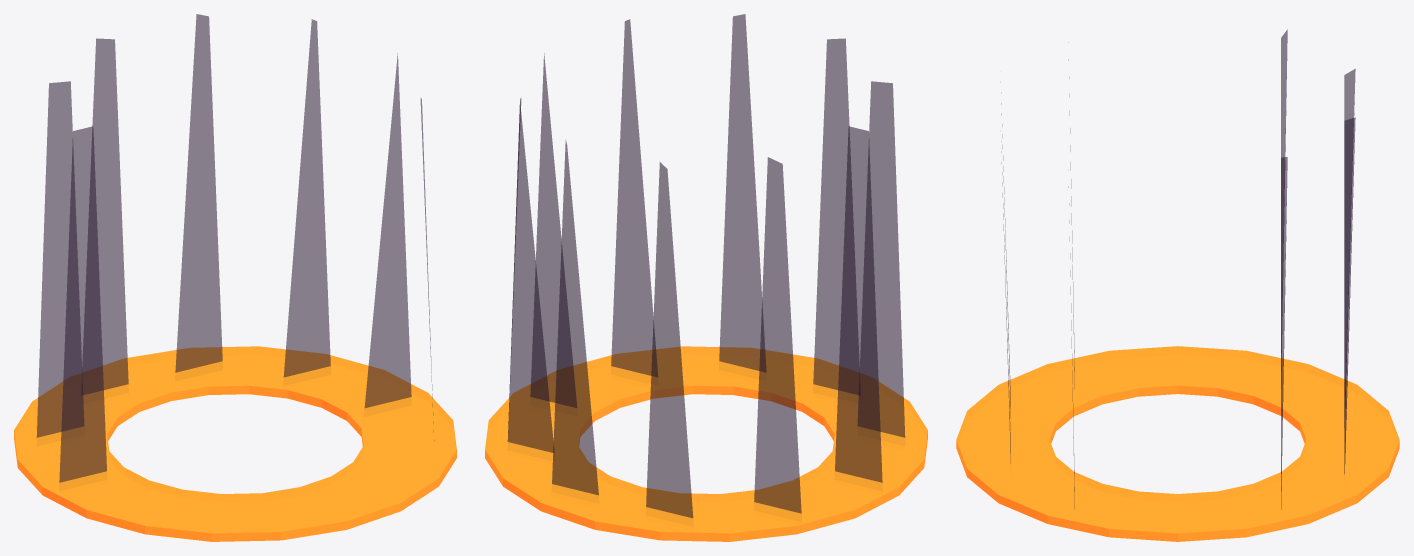
The model's file is cos_shroud.glb.
3 renders of one model, left to right at view 1: azimuth 30°, elevation 25°; view 2: azimuth 150°, elevation 25°; view 3: azimuth 270°, elevation 25°, orthographic.
Parts seen in each view (by area): view 1: cos_shroud_smoke, cos_shroud_ember; view 2: cos_shroud_smoke, cos_shroud_ember; view 3: cos_shroud_ember, cos_shroud_smoke.
Boxes of the visible parts, x1,y1,x2,y2 form: cos_shroud_smoke: (36,14,434,482); cos_shroud_ember: (14,346,456,541); cos_shroud_smoke: (507,14,905,518); cos_shroud_ember: (485,346,927,541); cos_shroud_ember: (956,346,1399,541); cos_shroud_smoke: (1001,29,1355,509).
Size of the model in its own units: 1.9 by 1.7 by 1.9.
